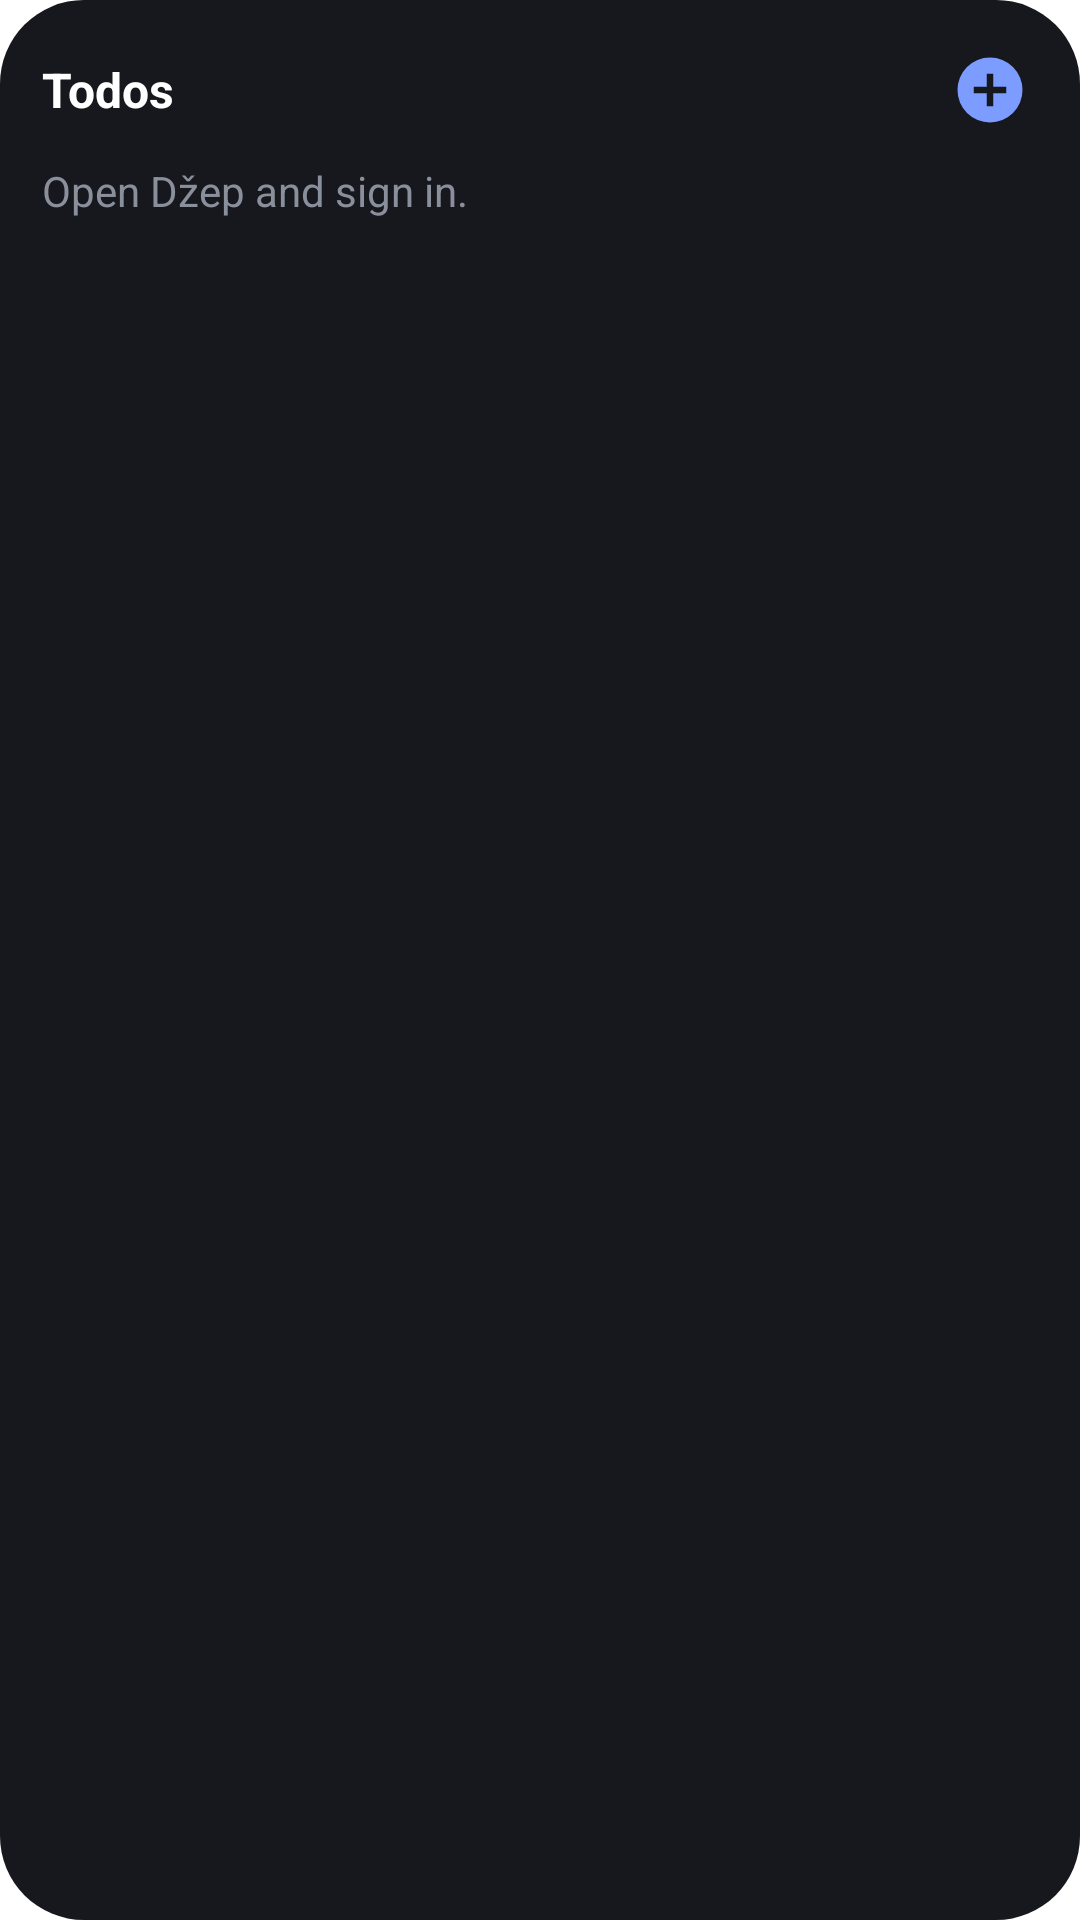

Locate icon controls on the screen. Image size 1080px x 1920px, boxes as (x1, y1, x2, y2).
New todo: (957, 57, 1023, 123)
